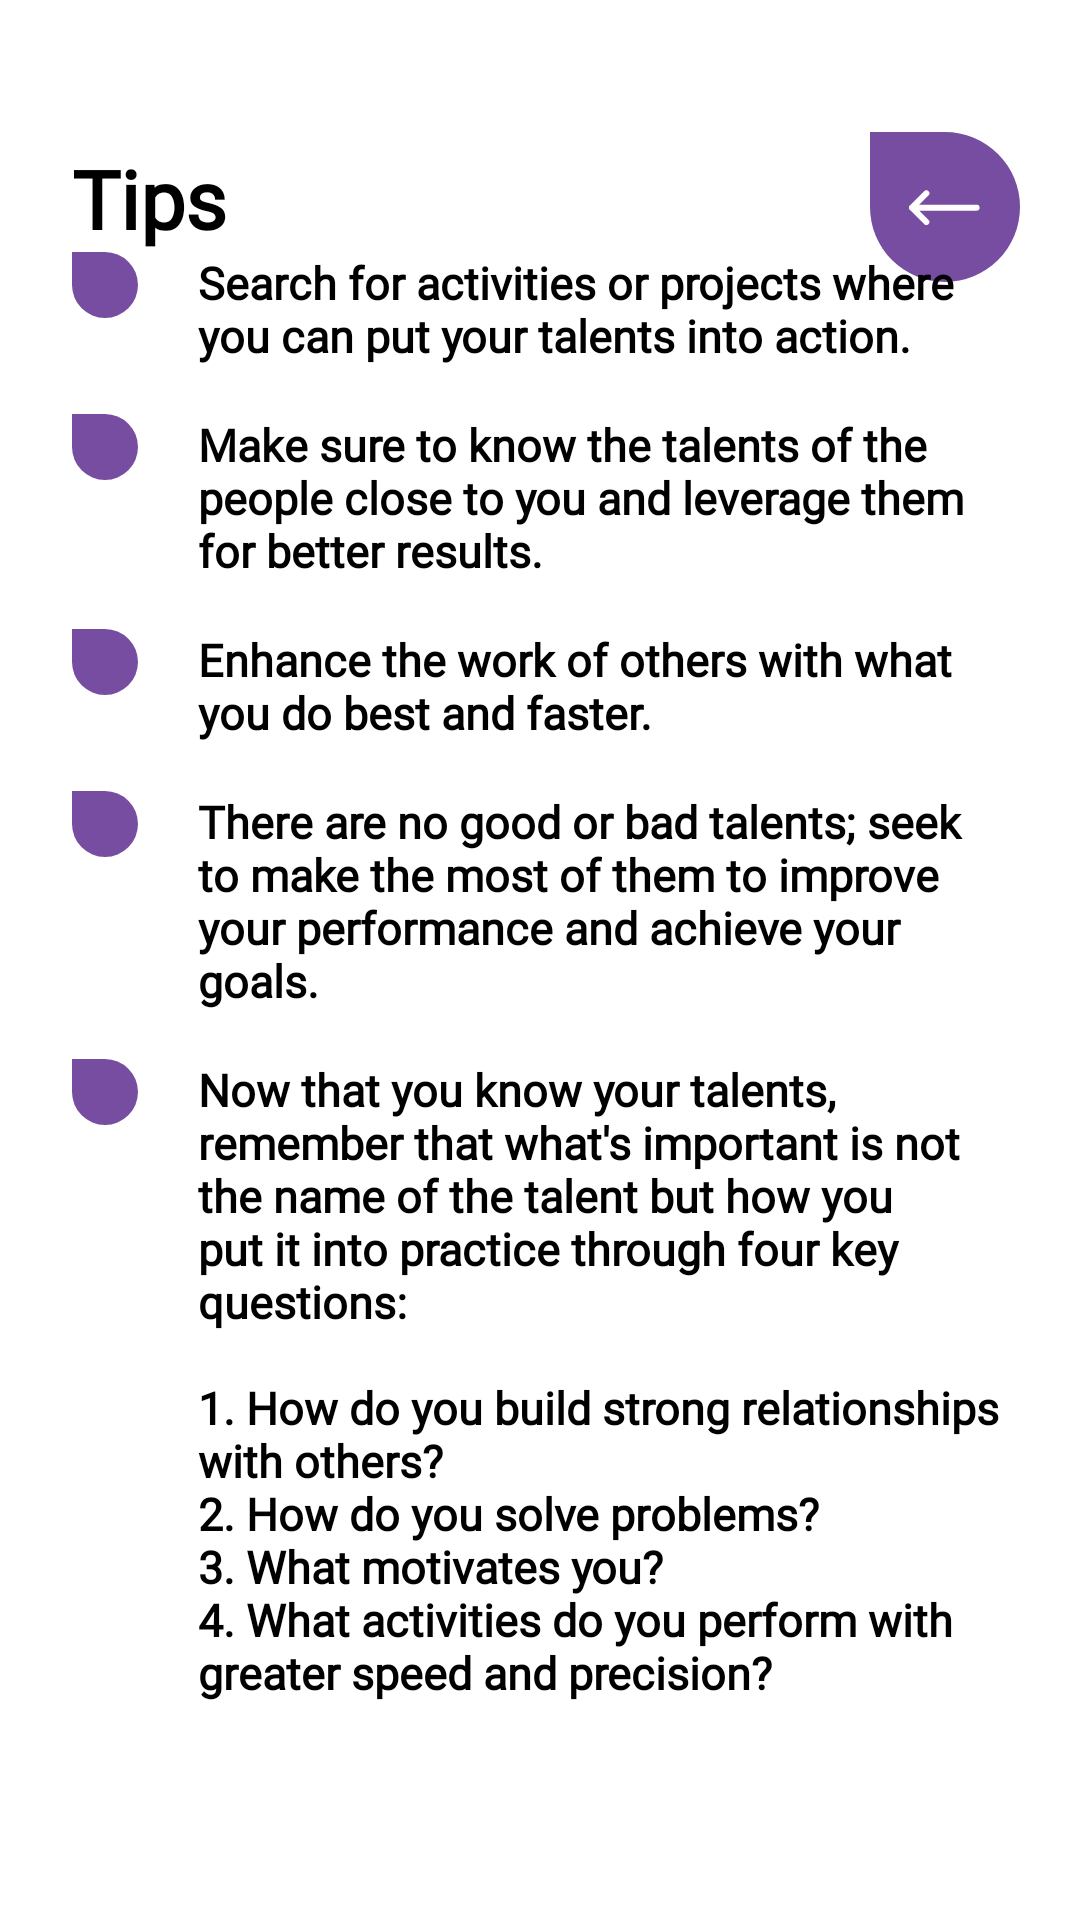

Named icons in this screenshot (1080px x 1920px) and their bounding boxes, (x1, y1, x2, y2):
back: (909, 190, 980, 225)
